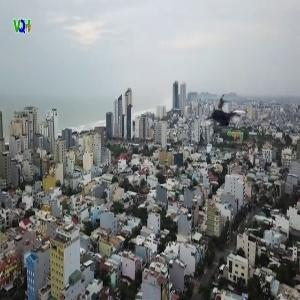drone: (202, 93, 256, 147)
